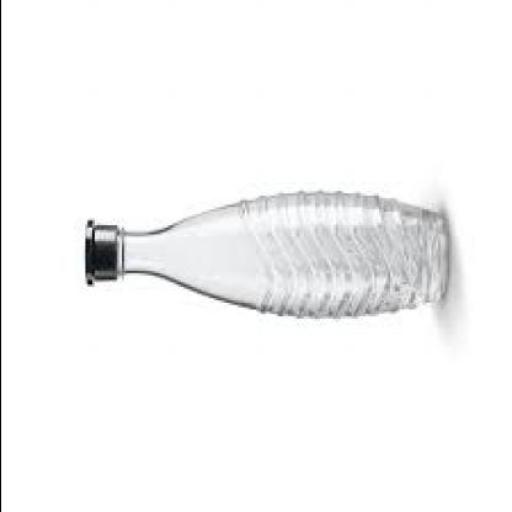glass: (109, 189, 449, 314)
metal: (82, 216, 116, 280)
